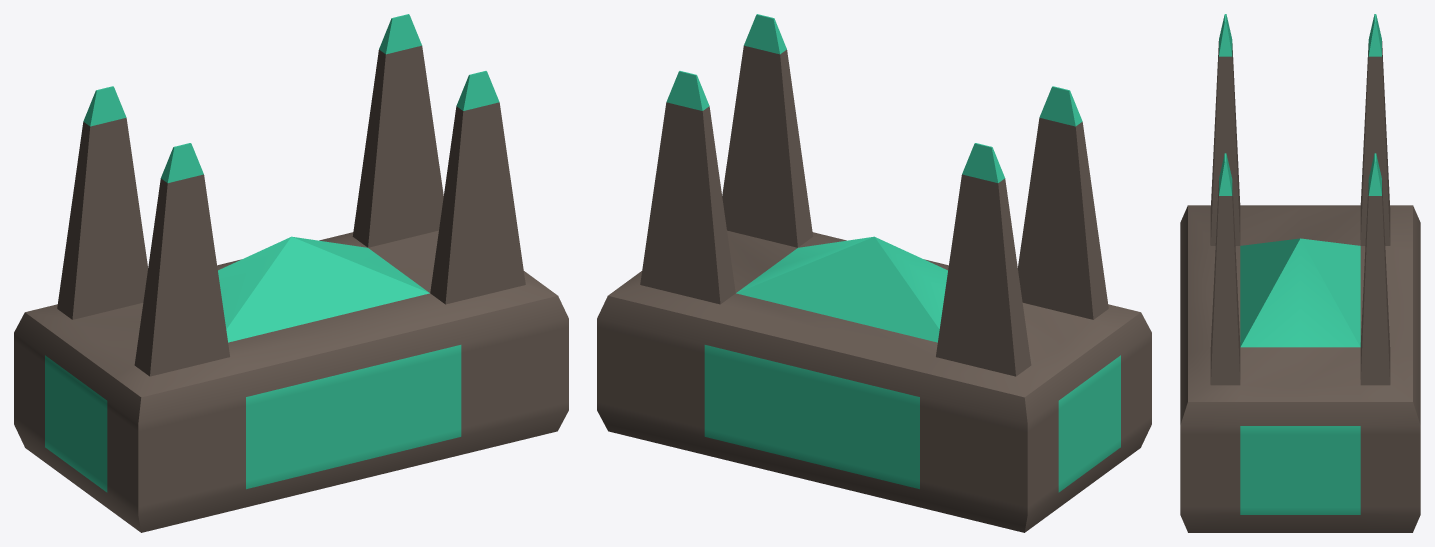
File: Ruins 18.fbx
The picture shows the model from 3 angles, left to right: view 1: azimuth 30°, elevation 25°; view 2: azimuth 150°, elevation 25°; view 3: azimuth 270°, elevation 25°; orthographic projection. The views are drawn at different scales.
Visible parts, largest first — view 1: Ruins 18; view 2: Ruins 18; view 3: Ruins 18.
Part boxes in pixels (bbox=[...]): Ruins 18: bbox=[14, 14, 568, 532]; Ruins 18: bbox=[597, 14, 1151, 532]; Ruins 18: bbox=[1180, 14, 1420, 532].
Bounding box in the file's own units: 60 × 48.77 × 30.
2 materials, 2 textured.
